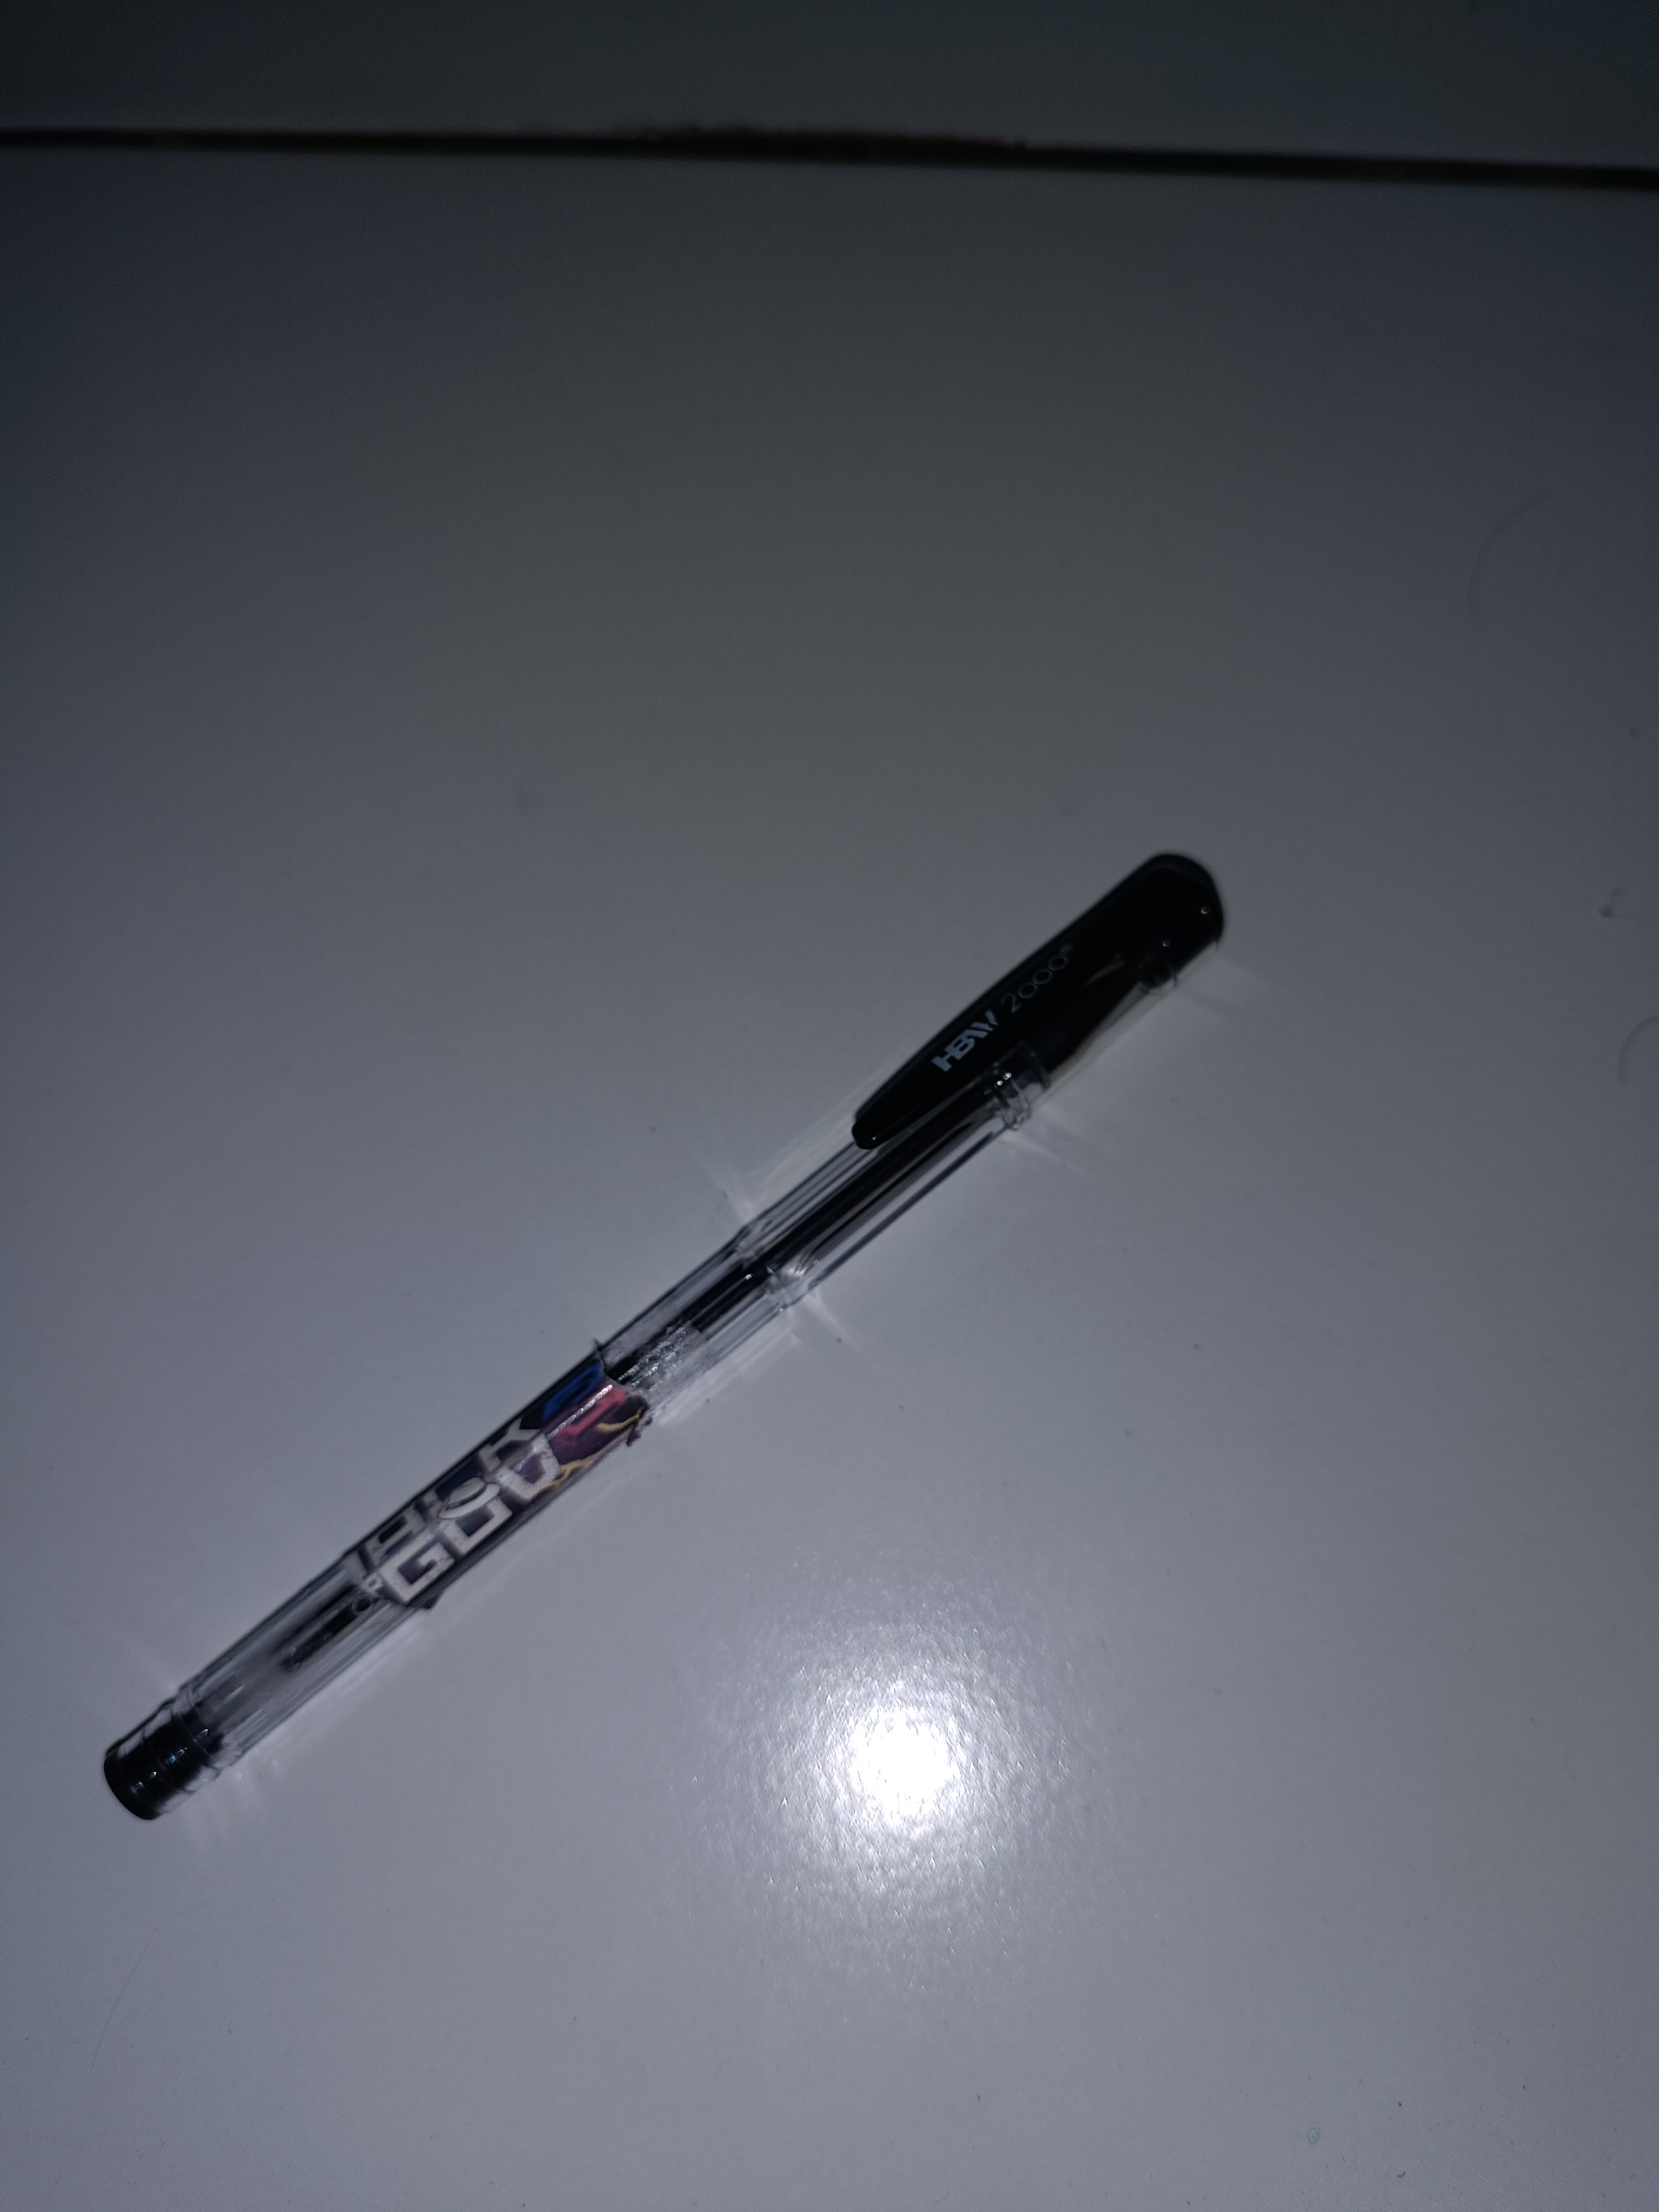Pen: (125, 707, 1227, 1914)
